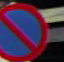No waiting: (0, 0, 54, 60)
